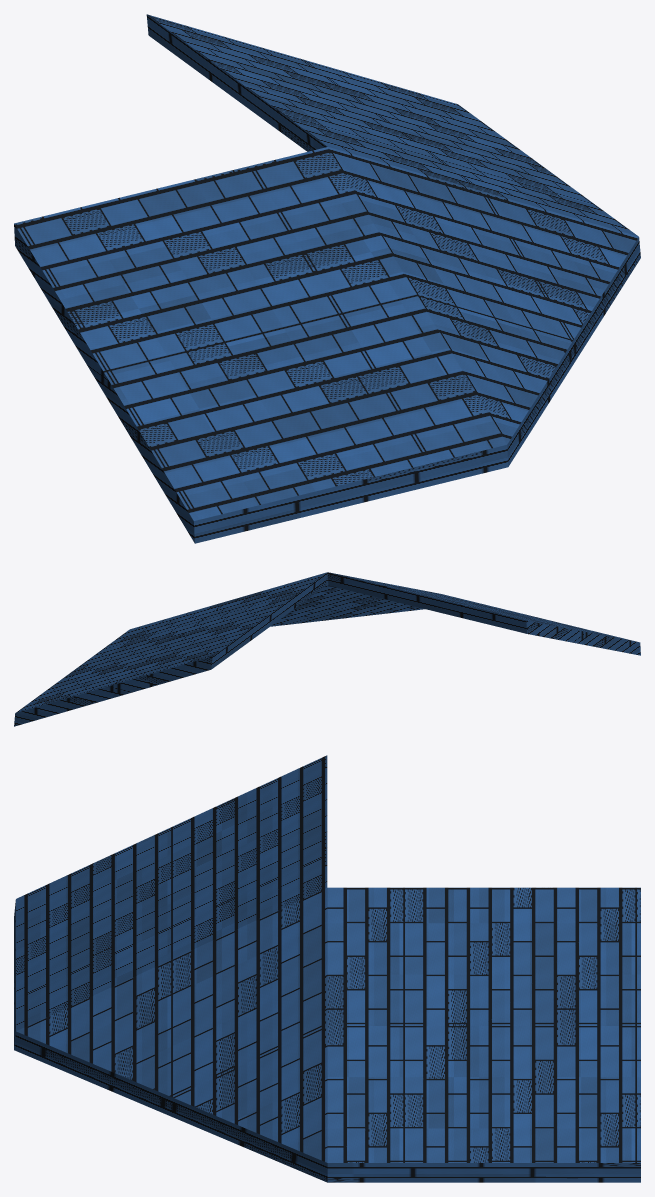
The model's file is theodosian blue roof corner inverse.glb.
The picture shows the model from 3 angles, top to bottom: view 1: azimuth 30°, elevation 25°; view 2: azimuth 150°, elevation 25°; view 3: azimuth 270°, elevation 25°; orthographic projection. The views are drawn at different scales.
Visible parts, largest first — view 1: Theodosian_blue_corner_inverse; view 2: Theodosian_blue_corner_inverse; view 3: Theodosian_blue_corner_inverse.
Boxes of the visible parts, x1,y1,x2,y2 form: Theodosian_blue_corner_inverse: (14,14,640,543); Theodosian_blue_corner_inverse: (14,572,640,726); Theodosian_blue_corner_inverse: (14,755,640,1182).
Bounding box in the file's own units: 2 × 0.5726 × 2.
Materials: 1 (1 with a texture image).
